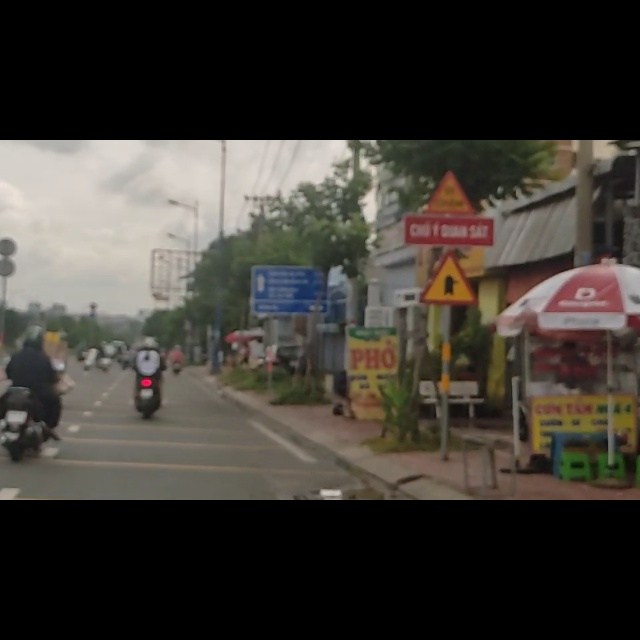bien_hieu_lenh: (421, 199, 479, 293)
